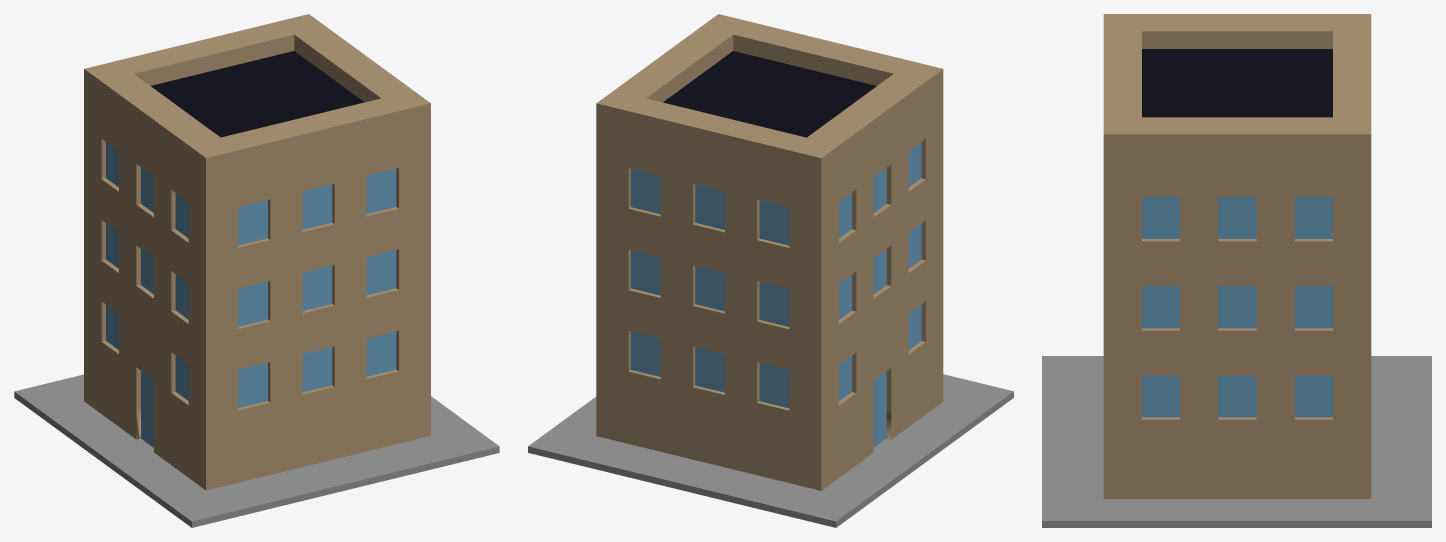
Rendered from Hotel I.FBX.
3 views of the same model, side by side, from view 1: azimuth 30°, elevation 25°; view 2: azimuth 150°, elevation 25°; view 3: azimuth 270°, elevation 25° (orthographic). The views are drawn at different scales.
Visible parts, largest first — view 1: Box003, Object, Plane001, Box004, Object002; view 2: Box003, Object, Plane001, Box004, Object002; view 3: Box003, Plane001, Object, Box004, Object002.
Part boxes in pixels (bbox=[...]): Box003: bbox=[84, 85, 430, 490]; Object: bbox=[84, 14, 430, 174]; Plane001: bbox=[14, 374, 499, 527]; Box004: bbox=[106, 142, 396, 447]; Object002: bbox=[151, 51, 364, 137]; Box003: bbox=[596, 85, 943, 490]; Object: bbox=[596, 14, 943, 174]; Plane001: bbox=[528, 374, 1013, 527]; Box004: bbox=[631, 142, 921, 447]; Object002: bbox=[663, 51, 876, 137]; Box003: bbox=[1103, 152, 1371, 498]; Plane001: bbox=[1042, 356, 1431, 527]; Object: bbox=[1103, 14, 1371, 152]; Box004: bbox=[1142, 196, 1332, 417]; Object002: bbox=[1142, 49, 1332, 117].
Size of the model in its own units: 1 by 1.06 by 1.
